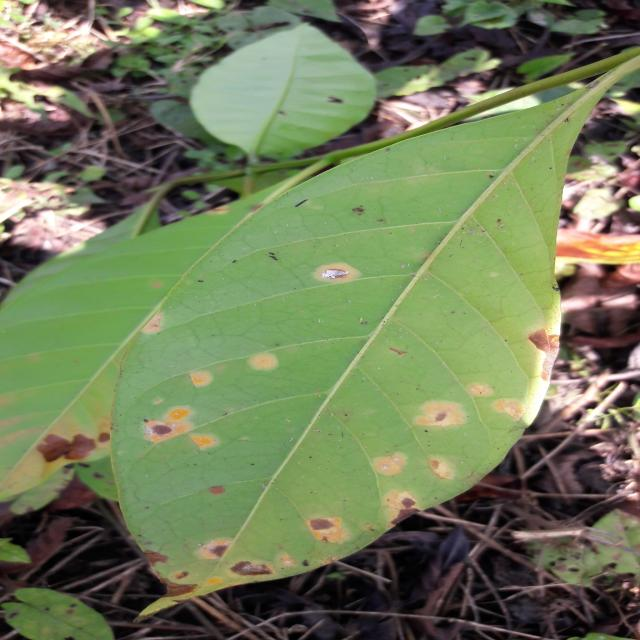Enfermedad-Roya: (103, 54, 620, 625)
